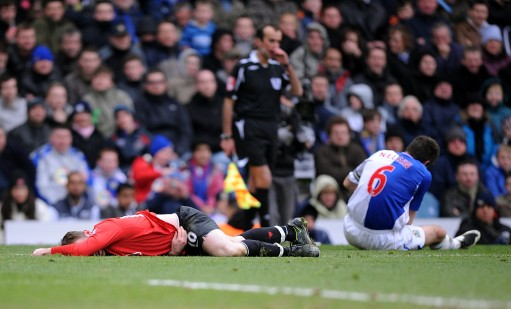10+: (1, 1, 511, 272)
down: (29, 195, 323, 272), (340, 136, 481, 251)
